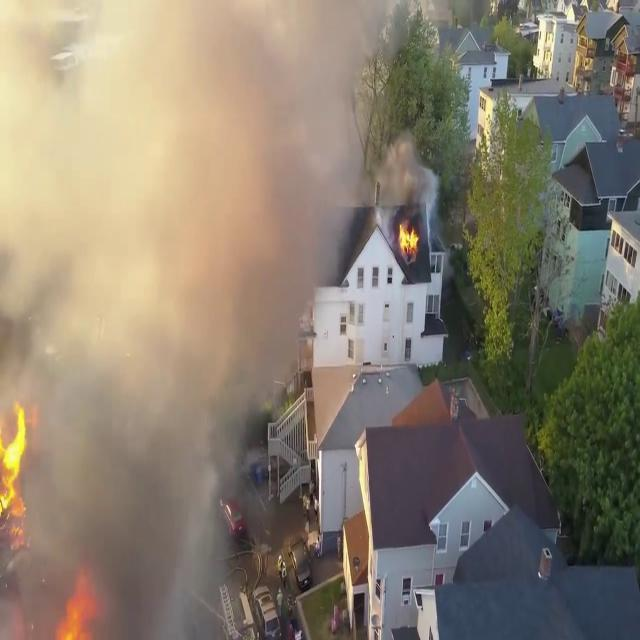Fire: (0, 396, 35, 538), (397, 218, 421, 258)
Smoke: (1, 0, 396, 627)
